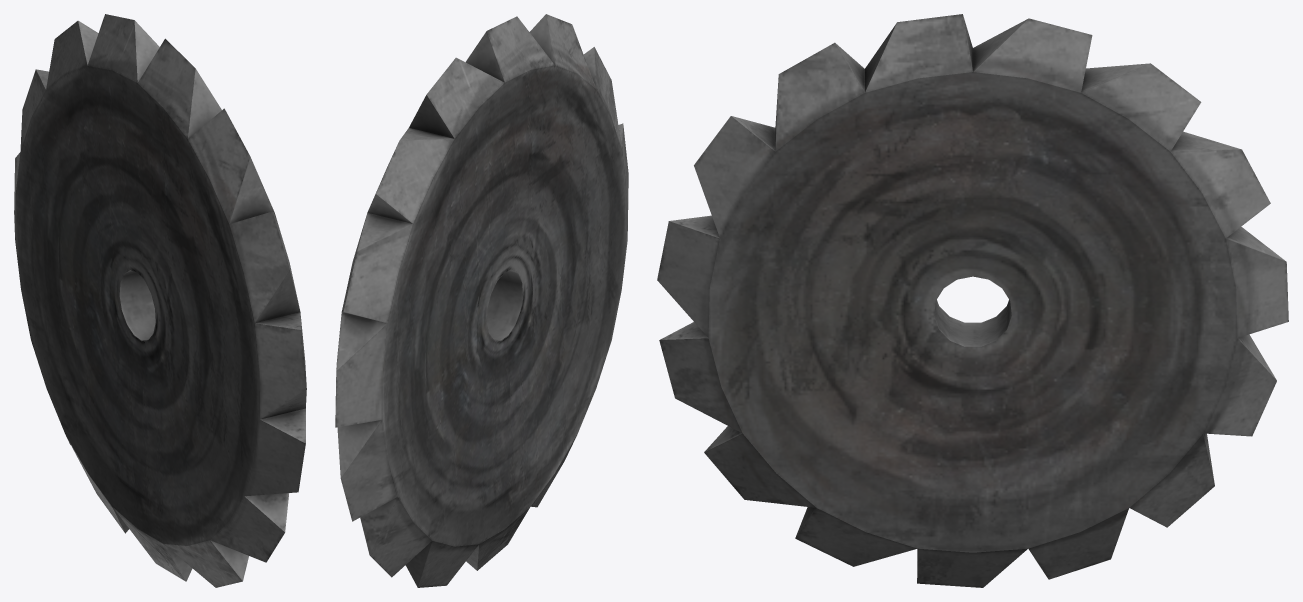
Rendered from Saw_disk_SciFi_BS.fbx.
The picture shows the model from 3 angles, left to right: view 1: azimuth 30°, elevation 25°; view 2: azimuth 150°, elevation 25°; view 3: azimuth 270°, elevation 25°; orthographic projection. The views are drawn at different scales.
Parts seen in each view (by area): view 1: Saw_disk_SciFi_BS; view 2: Saw_disk_SciFi_BS; view 3: Saw_disk_SciFi_BS.
Boxes of the visible parts, x1,y1,x2,y2 form: Saw_disk_SciFi_BS: (14, 14, 306, 587); Saw_disk_SciFi_BS: (335, 14, 628, 587); Saw_disk_SciFi_BS: (657, 14, 1288, 587).
Bounding box in the file's own units: 2.46 × 27.39 × 27.32.
1 material, 1 textured.
